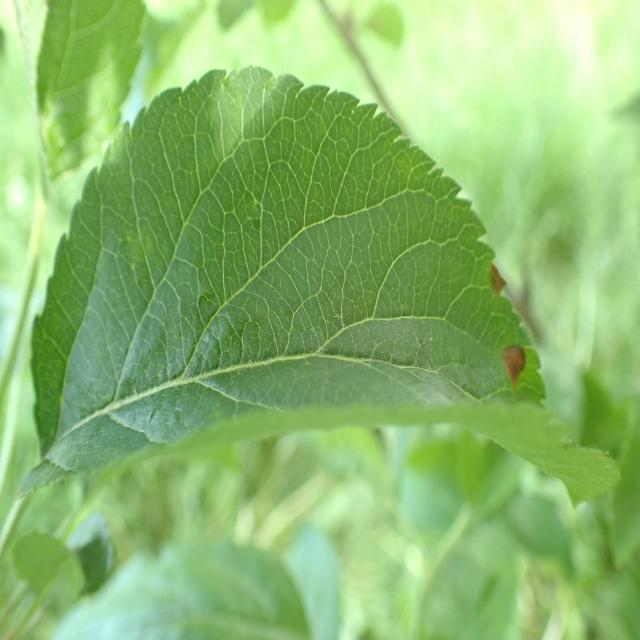Black Rot: (488, 340, 543, 408), (477, 241, 512, 318)
